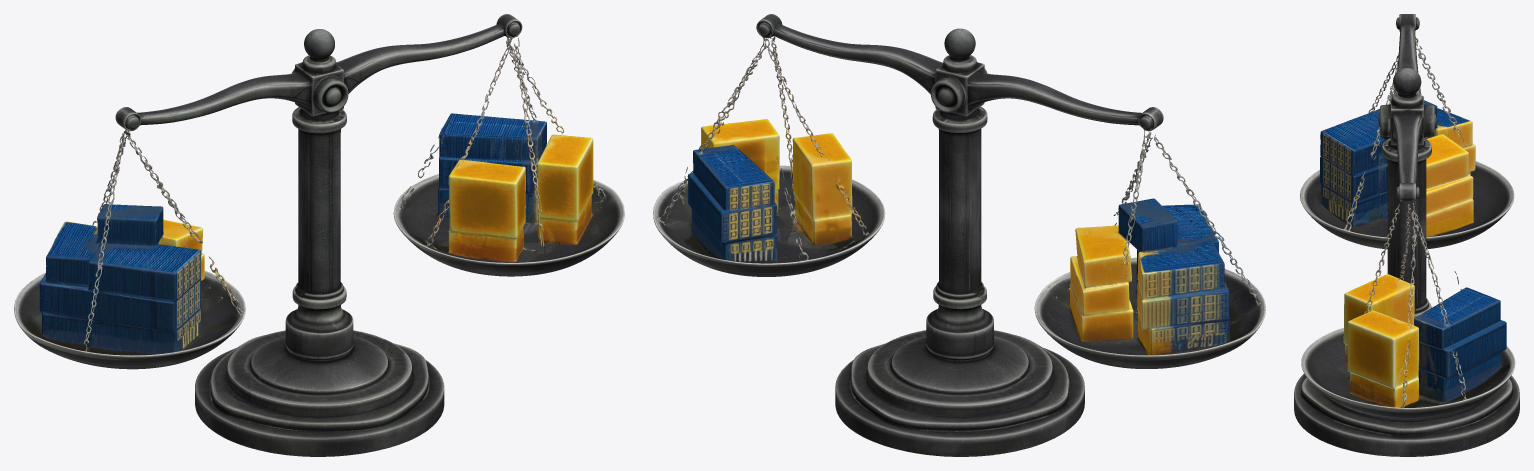
3 renders of one model, left to right at view 1: azimuth 30°, elevation 25°; view 2: azimuth 150°, elevation 25°; view 3: azimuth 270°, elevation 25°, orthographic. The views are drawn at different scales.
Size of the model in its own units: 1.9 by 1.16 by 0.6969.
1 material, 1 textured.
